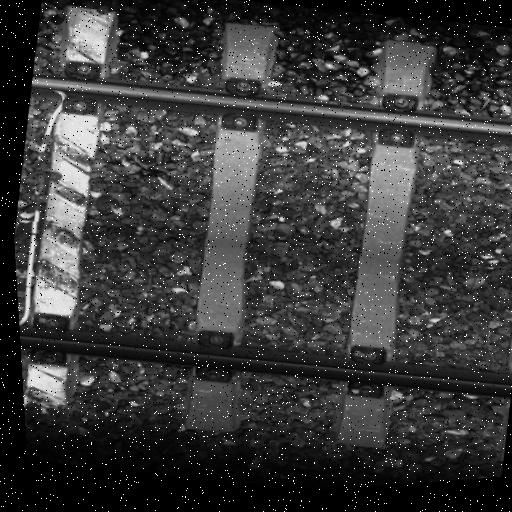clips: (190, 327, 244, 385), (27, 310, 80, 369), (218, 75, 271, 134), (59, 58, 108, 118), (375, 91, 424, 149), (346, 343, 393, 400)
sleepers: (154, 18, 306, 436), (1, 0, 144, 419), (312, 35, 455, 451), (468, 59, 512, 461)
